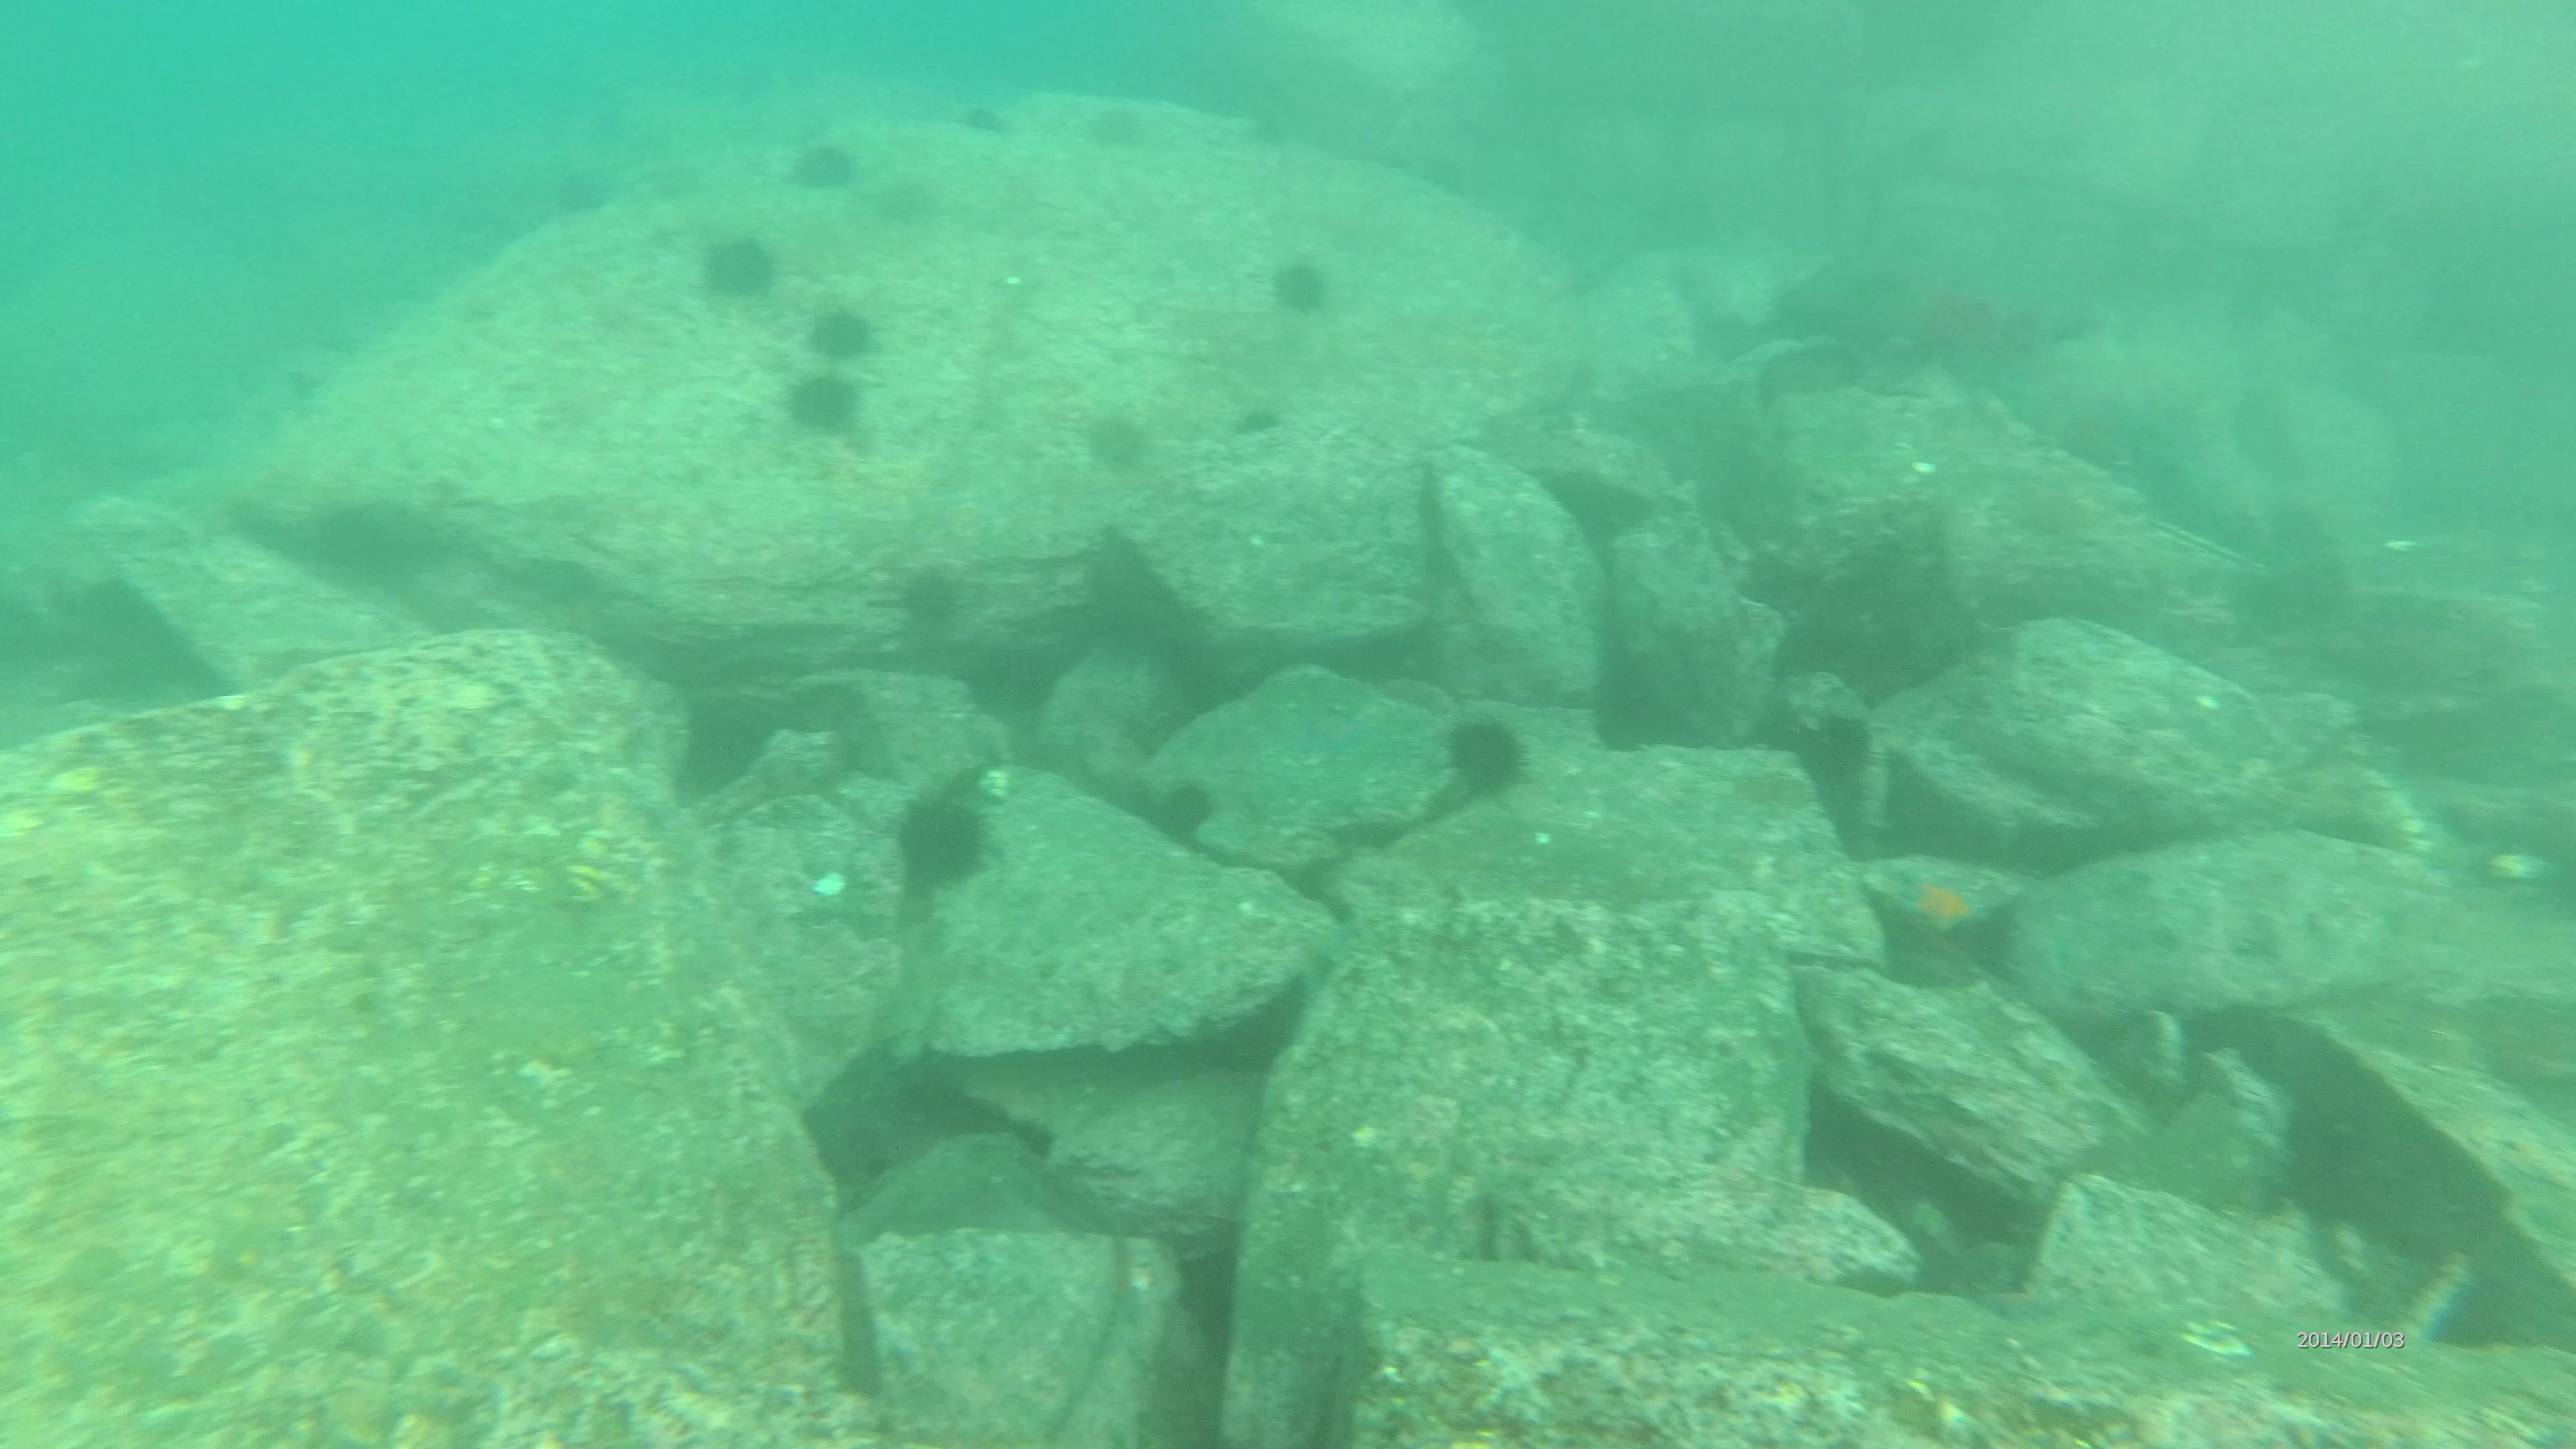echinus: (897, 786, 994, 883), (1449, 713, 1529, 794), (786, 375, 869, 433), (1085, 414, 1157, 476), (708, 234, 775, 299), (1267, 258, 1332, 318), (803, 310, 878, 359), (794, 142, 855, 193)
starfish: (1874, 862, 2003, 955)
